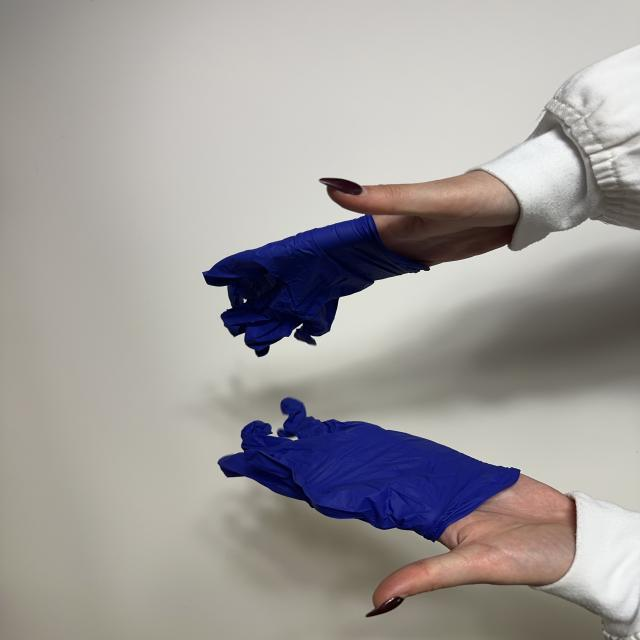glove_partial: (219, 398, 576, 616), (203, 171, 519, 356)
